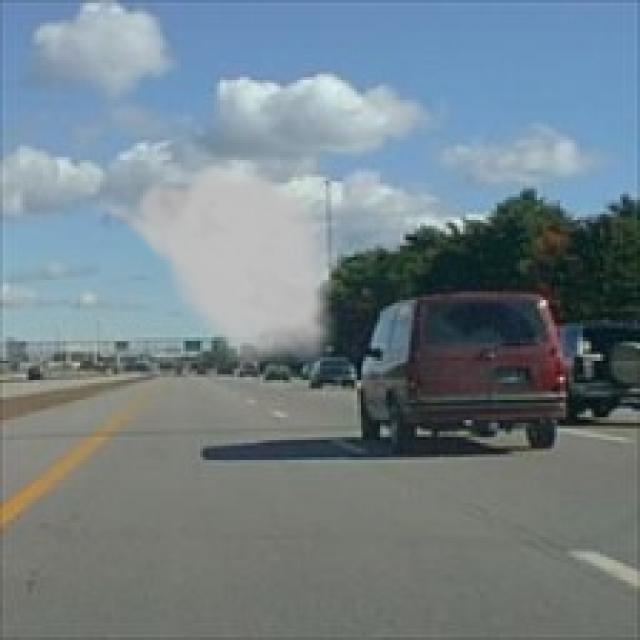smoke: (85, 154, 348, 377)
